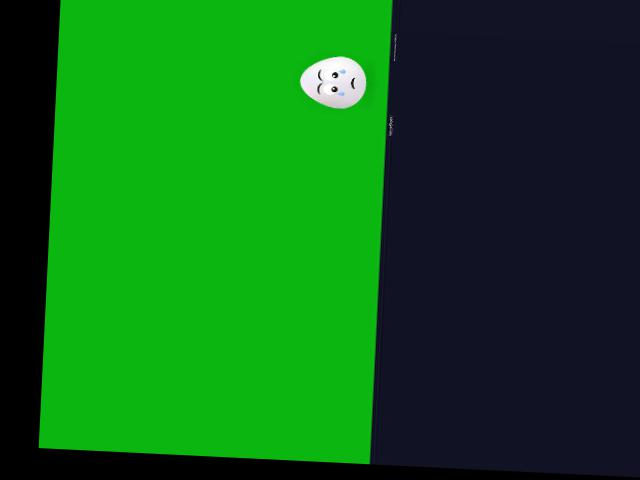egg: (299, 54, 367, 109)
